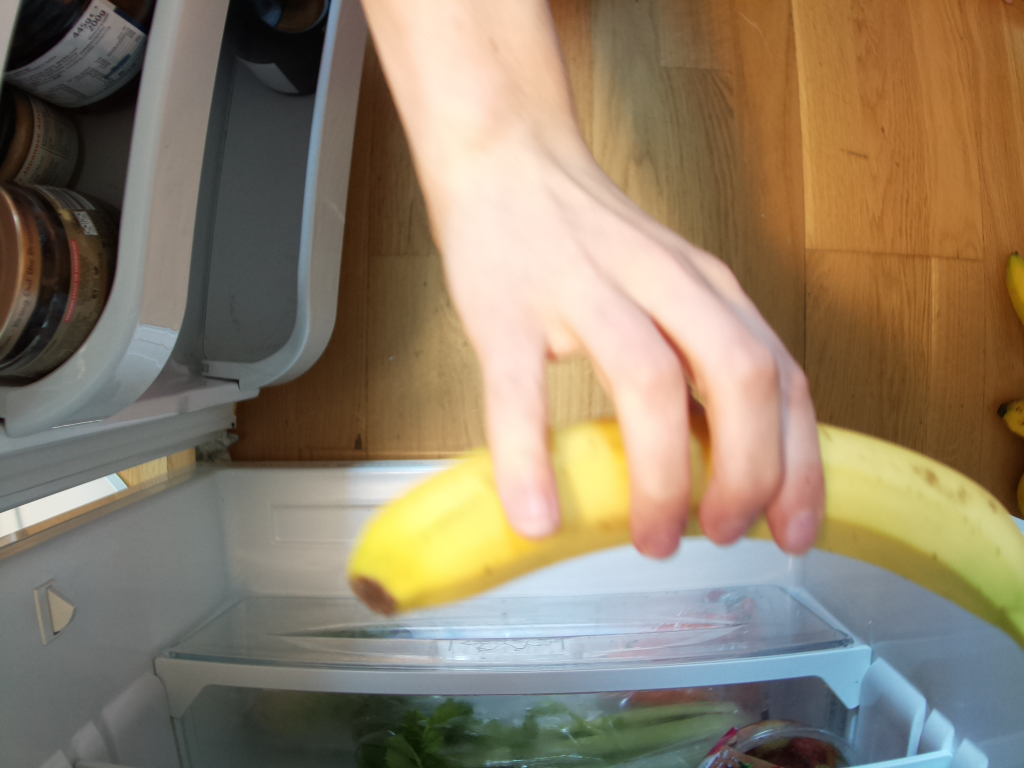banana-unripe: (342, 408, 1024, 668)
